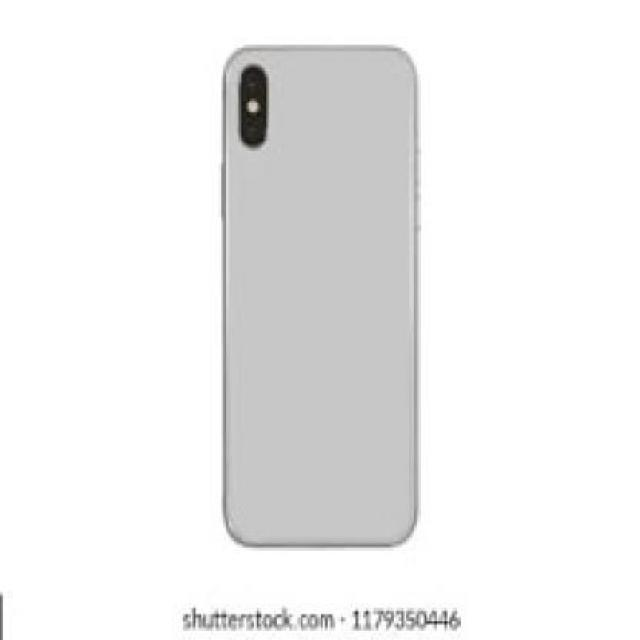phone: (221, 48, 419, 548)
